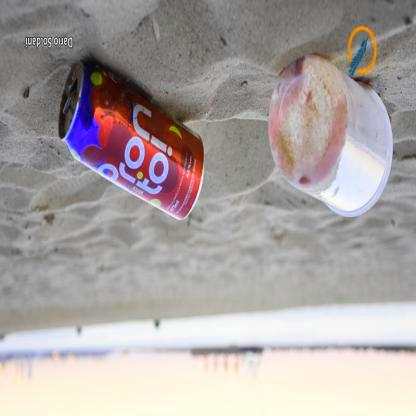Metal: (56, 53, 207, 228)
Plastic: (267, 53, 394, 226)
